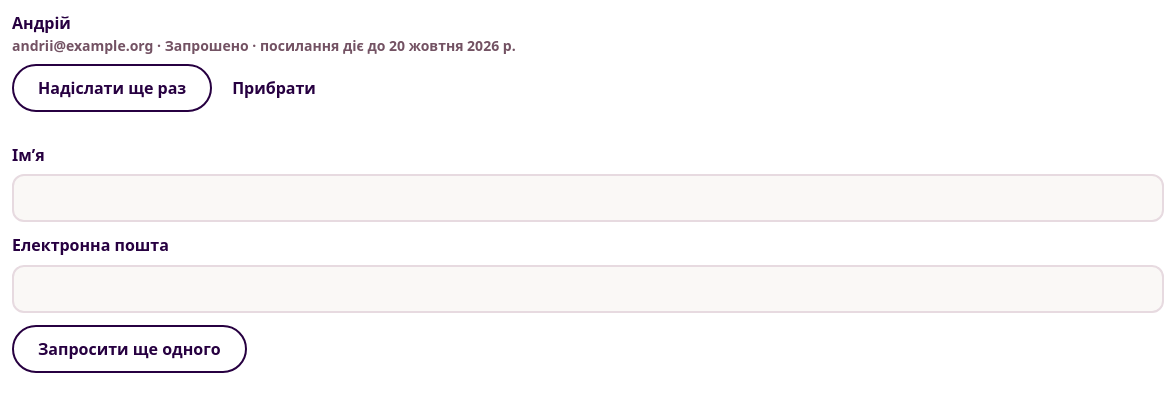
Test case: resend shows what became of the email › {"kind":"failed","reason":"provider_error"}
Click the button "Надіслати ще раз": click(112, 88) [12,64,212,112]
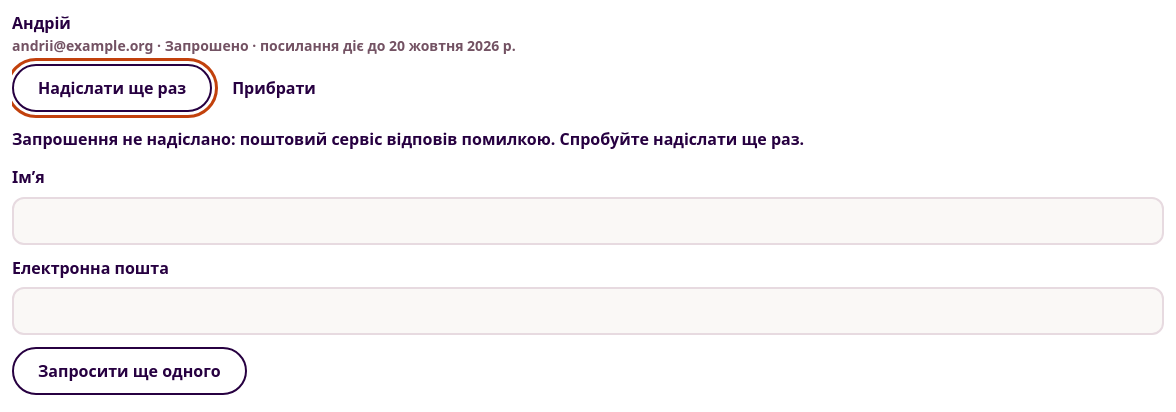
Expected: the message shows "Запрошення не надіслано: поштовий сервіс відповів помилкою. Спробуйте надіслати ще раз.", [12,128,804,150]
